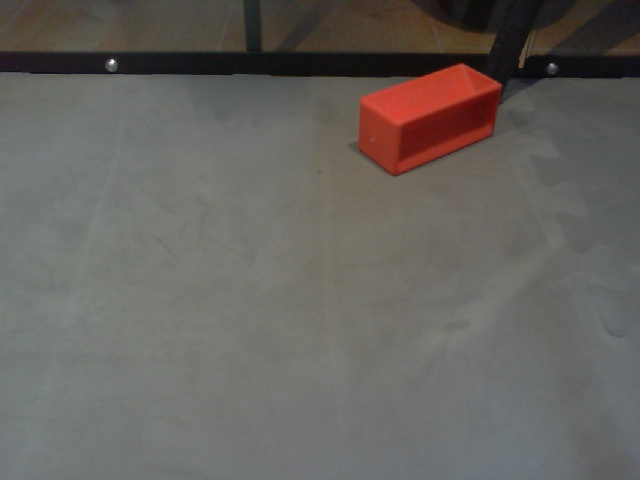RedSample: (358, 61, 504, 179)
